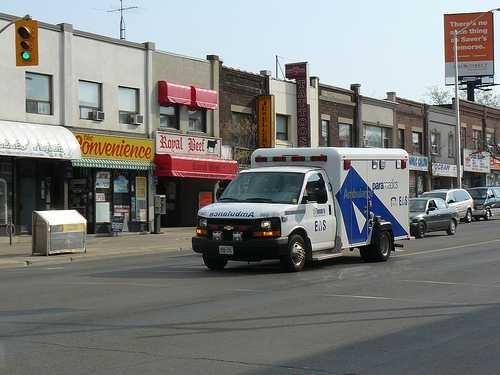car: (191, 146, 410, 272)
